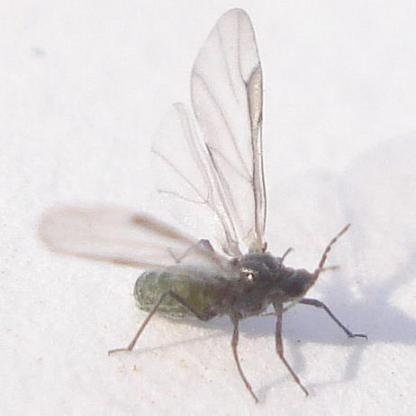aphid: (44, 8, 383, 406)
